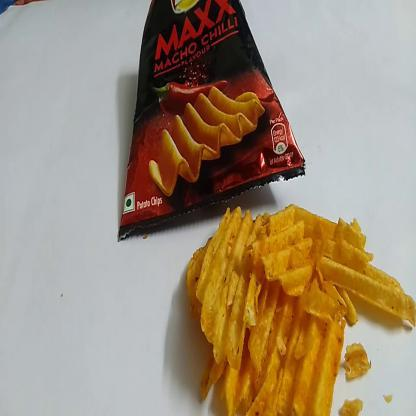max_chili: (122, 0, 313, 188)
